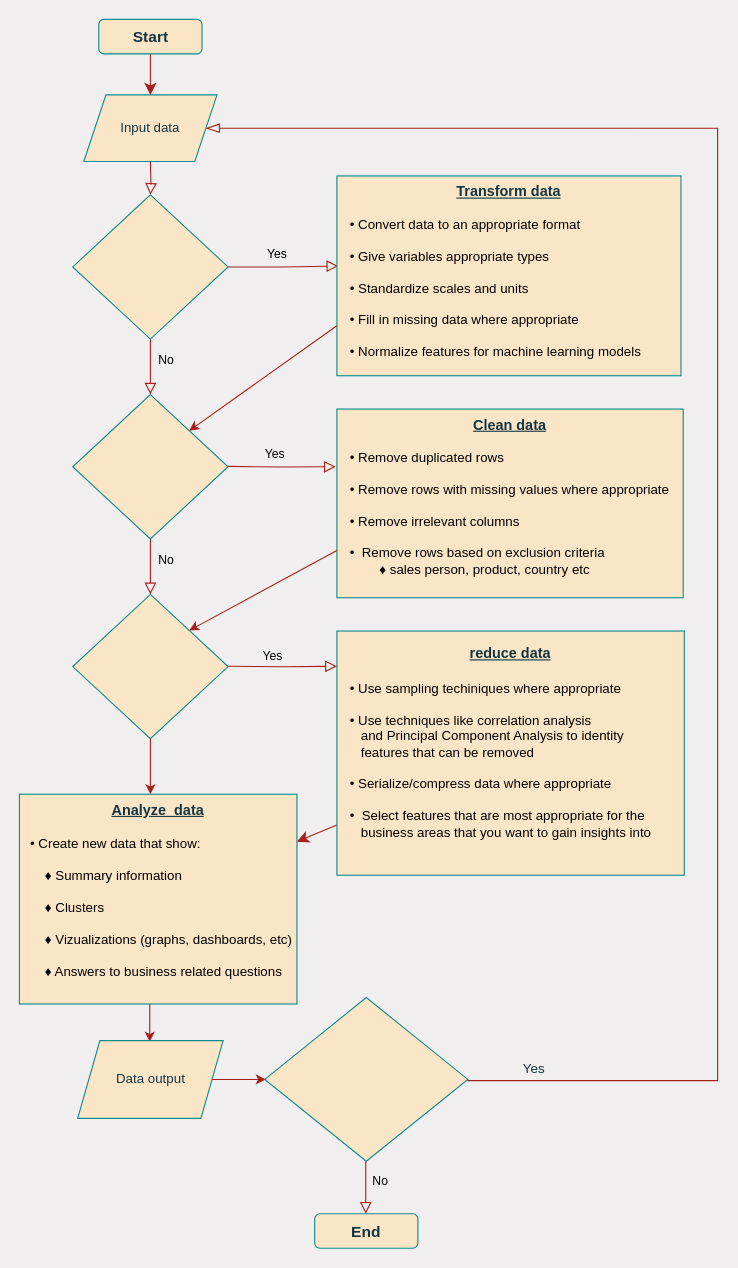
This 738x1268 diagram has some shape labels left out. Each missing label, with the centre of its shape:
"Does our data output need further processing?" goes at (366,1078).
"Does the data need cleaned?" goes at (150,466).
"Does the data need reduced?" goes at (150,666).
"Does the data need transformed?" goes at (150,266).
